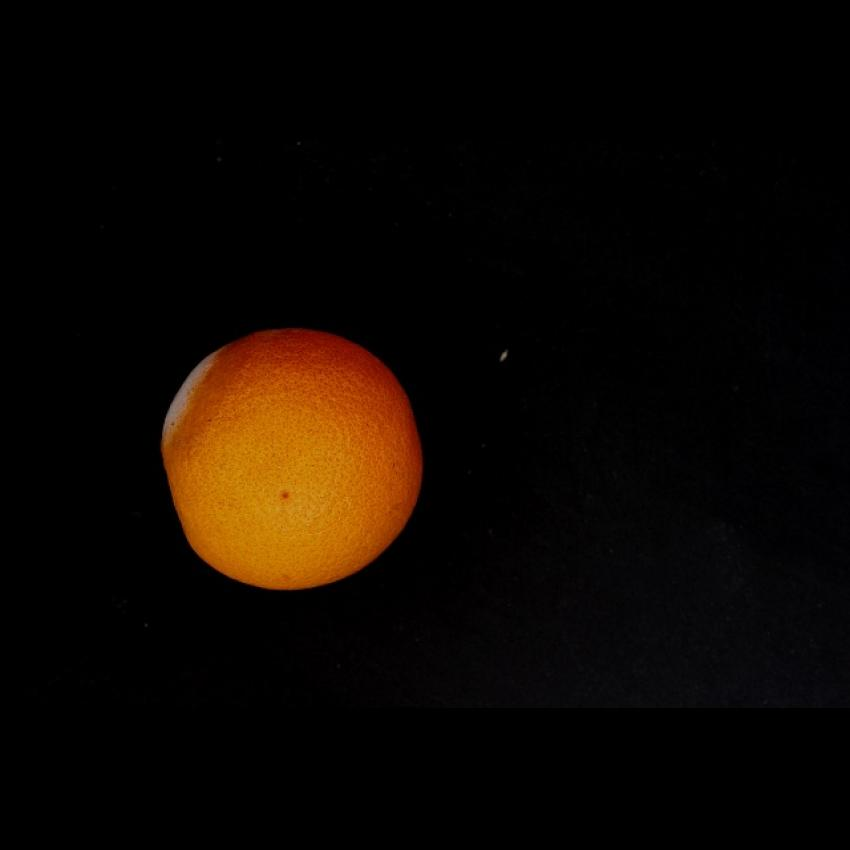Mal estado: (154, 331, 430, 600)
